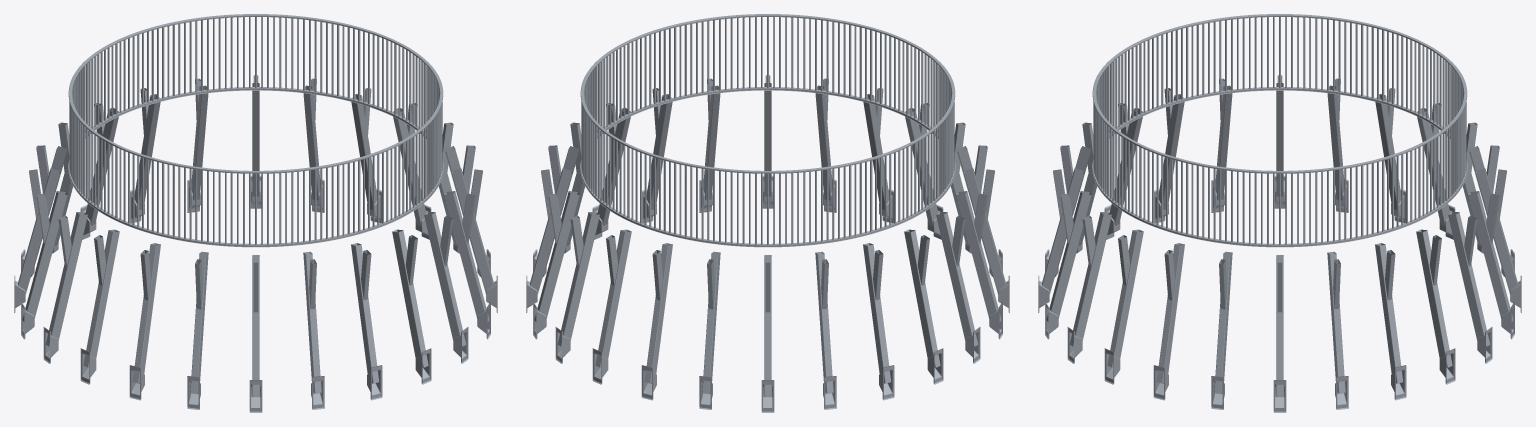
Rendered from field_summer_frame.fbx.
3 views of the same model, side by side, from view 1: azimuth 30°, elevation 25°; view 2: azimuth 150°, elevation 25°; view 3: azimuth 270°, elevation 25° (orthographic).
Visible parts, largest first — view 1: field_summer_torwer; view 2: field_summer_torwer; view 3: field_summer_torwer.
Part boxes in pixels (box(x1,y1,x2,y2)): field_summer_torwer: box(14, 14, 497, 412); field_summer_torwer: box(526, 14, 1009, 412); field_summer_torwer: box(1038, 14, 1521, 412).
Size of the model in its own units: 596 by 297 by 596.
Materials: 1 (1 with a texture image).
